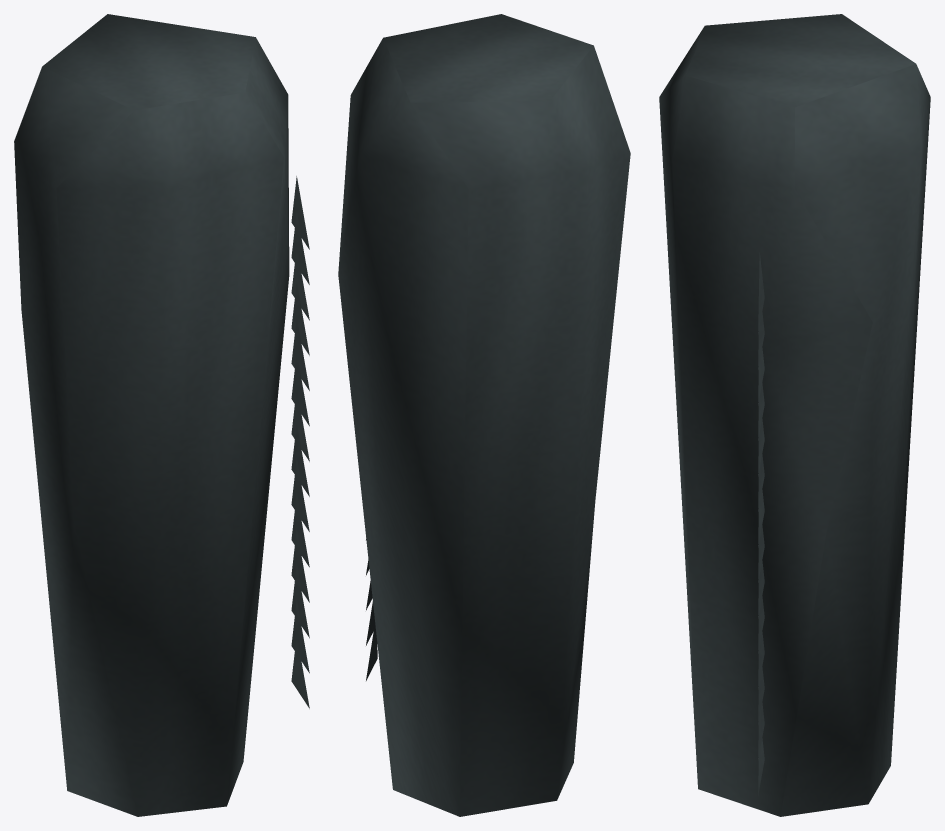
The model's file is upper_arm_l_lod2.glb.
3 renders of one model, left to right at view 1: azimuth 30°, elevation 25°; view 2: azimuth 150°, elevation 25°; view 3: azimuth 270°, elevation 25°, orthographic.
Visible parts, largest first — view 1: dormin_upper_arm_l_LOD2; view 2: dormin_upper_arm_l_LOD2; view 3: dormin_upper_arm_l_LOD2.
Part boxes in pixels (x1,y1,x2,y2): dormin_upper_arm_l_LOD2: [14, 14, 309, 816]; dormin_upper_arm_l_LOD2: [338, 14, 630, 816]; dormin_upper_arm_l_LOD2: [659, 14, 930, 816].
Bounding box in the file's own units: 1.62 × 4.26 × 1.46.
1 material, 1 textured.
